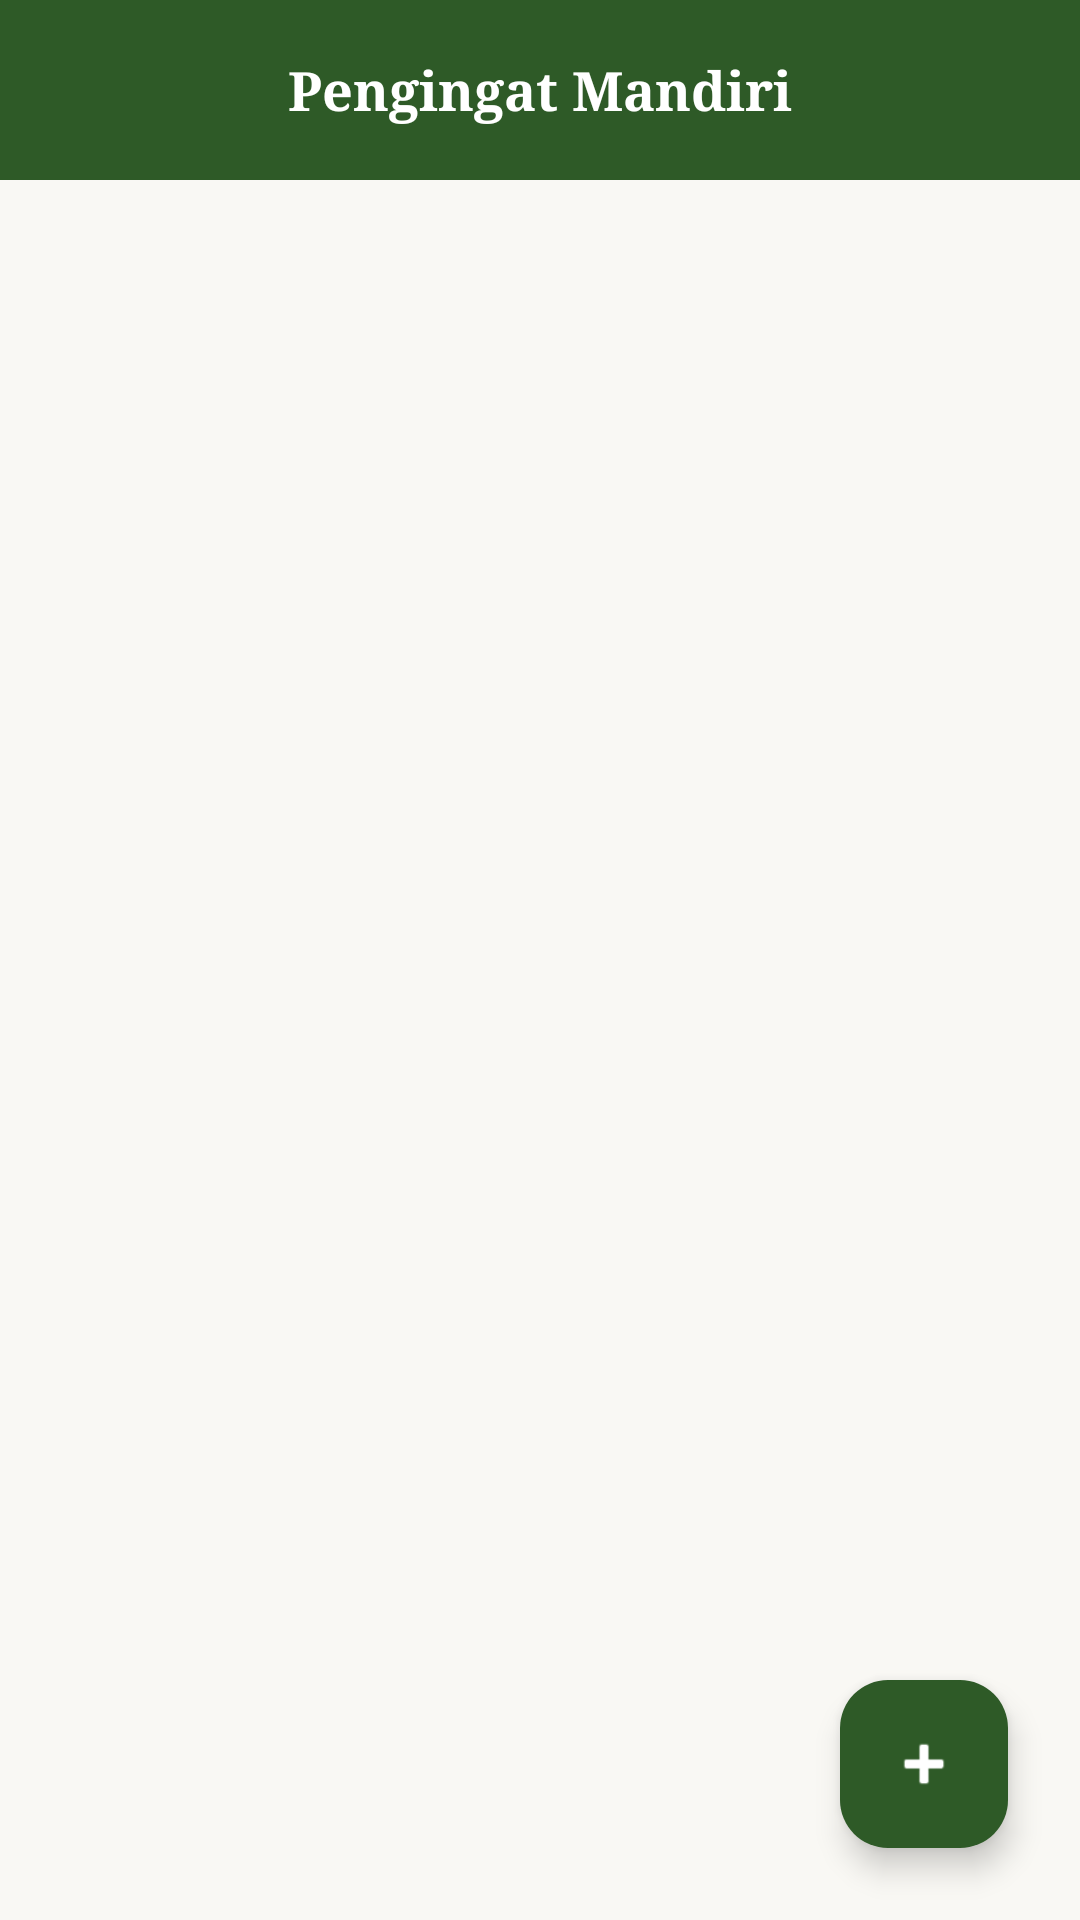

Icons on this 1080w x 1920h Android screen, each with its box as {"left": x1, "top": y1, "right": x2, "bottom": y2}:
Tambah Pengingat: {"left": 840, "top": 1680, "right": 1008, "bottom": 1848}
